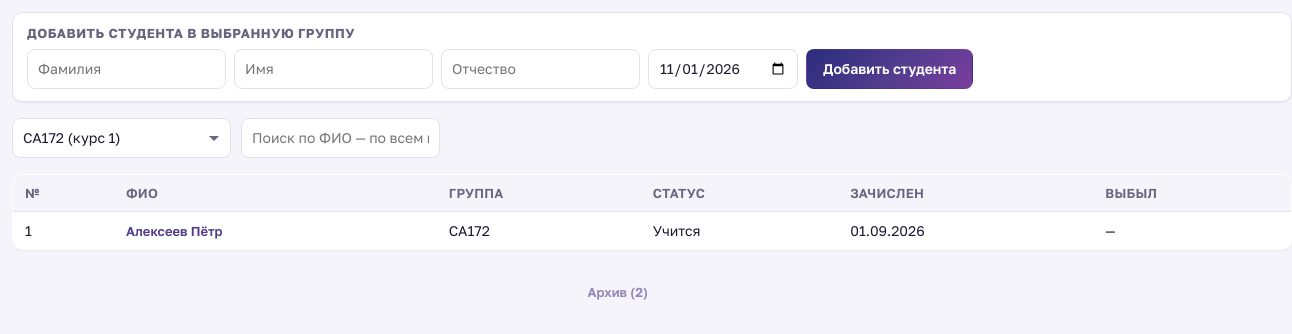
Scenario: StudentsTab › ошибка добавления (чужое отделение) показывается, введённое остаётся
The image size is (1292, 334).
Expected: the link "Алексеев Пётр" is shown, [122, 221, 226, 241]
In the field with placeholder "Фамилия": (126, 69) [27, 49, 226, 89], type "Новиков"
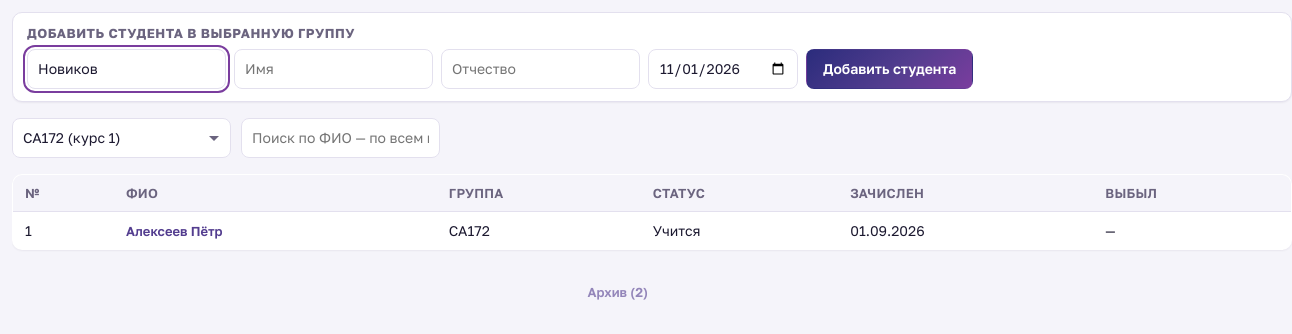
In the field with placeholder "Имя": (334, 69) [234, 49, 433, 89], type "Олег"
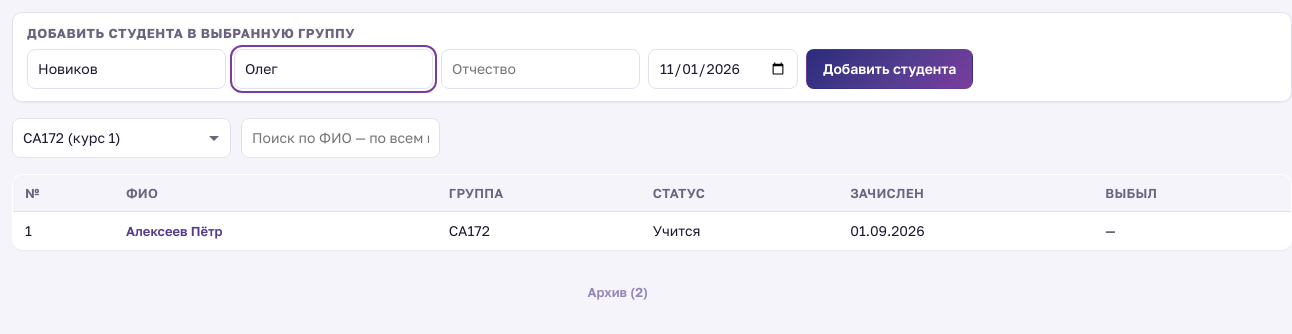
Click the button "Добавить студента": (890, 69) [806, 49, 973, 89]
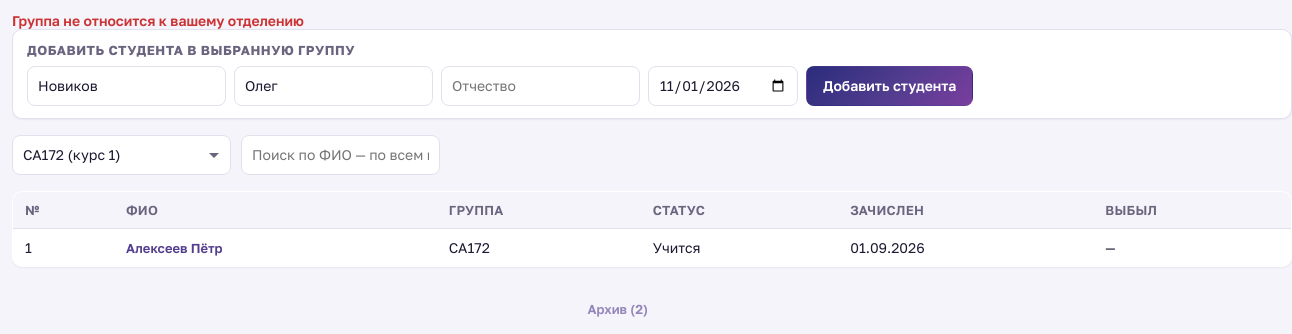
Expected: the text "Группа не относится к вашему отделению" is shown, [12, 12, 304, 29]
